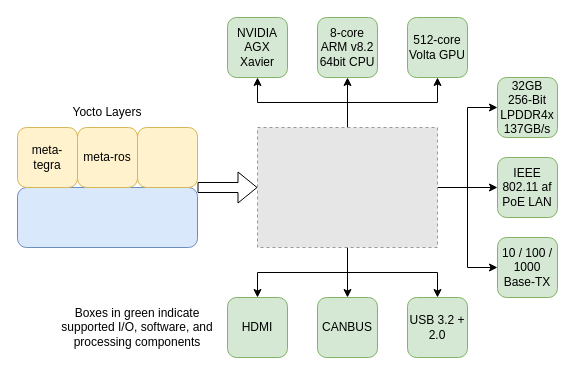
Image size: 575x375. Some labels were removed from this diagram. Grey dashed boxes stand in for pictures. The shapes that lost their labels are listed below. From the top down, each one's centre as x and y in pixels, then its label:
At (x=167, y=157): "meta-rauc".
At (x=107, y=217): "poky".
